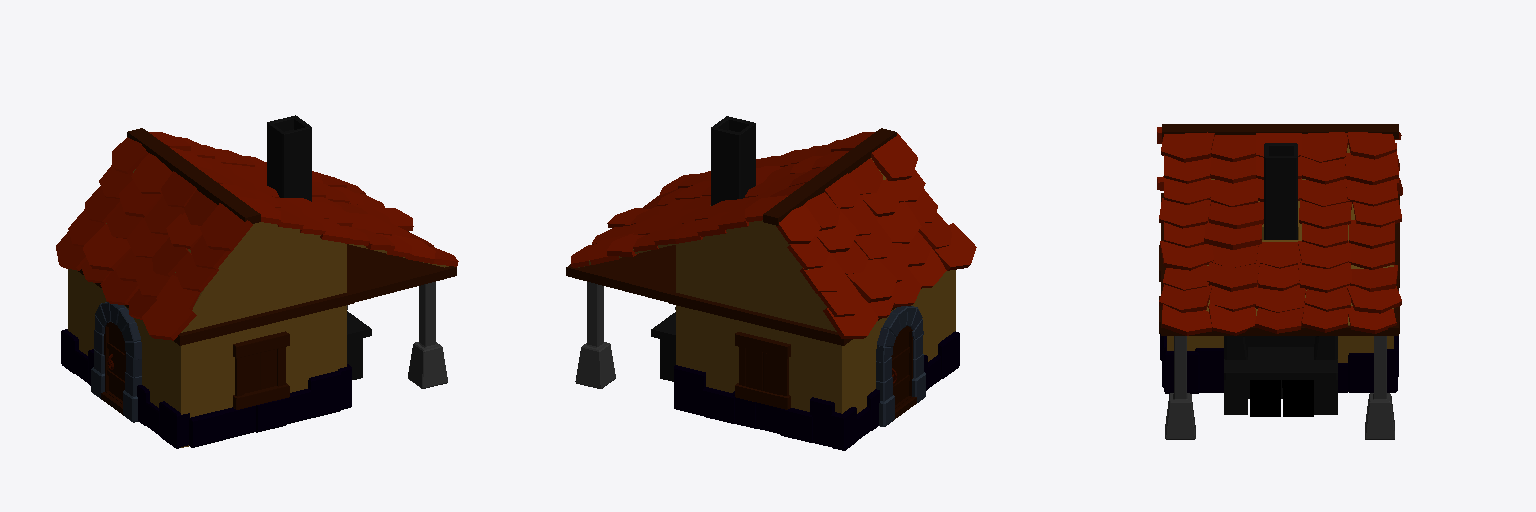
The model's file is BlackSmithShop.obj.
3 views of the same model, side by side, from view 1: azimuth 30°, elevation 25°; view 2: azimuth 150°, elevation 25°; view 3: azimuth 270°, elevation 25° (orthographic).
Parts seen in each view (by area): view 1: BlackSmith_Shop_Cube.070; view 2: BlackSmith_Shop_Cube.070; view 3: BlackSmith_Shop_Cube.070.
Part boxes in pixels (bbox=[...]): BlackSmith_Shop_Cube.070: bbox=[56, 115, 458, 448]; BlackSmith_Shop_Cube.070: bbox=[566, 116, 976, 450]; BlackSmith_Shop_Cube.070: bbox=[1157, 124, 1402, 439].
Size of the model in its own units: 13.07 by 9.88 by 9.01.